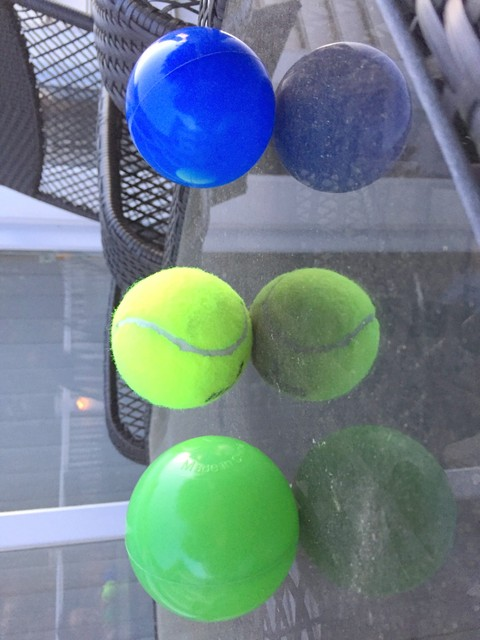Ball: (110, 264, 255, 414)
